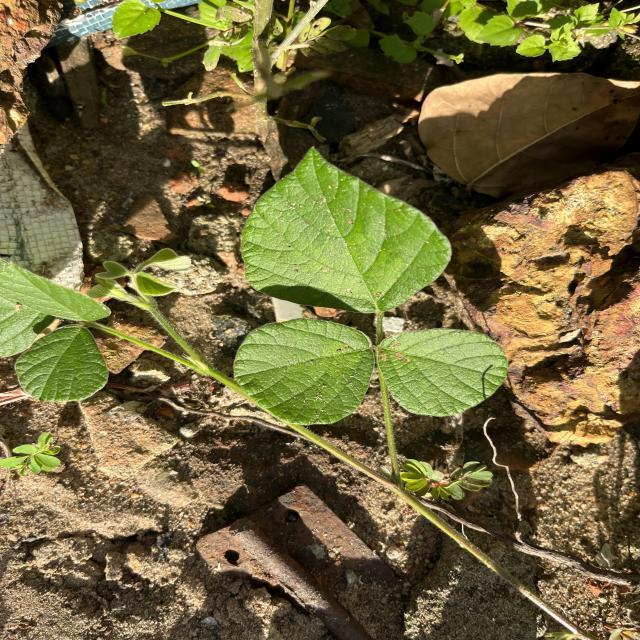Pseudarthria viscida: (229, 143, 513, 432)
